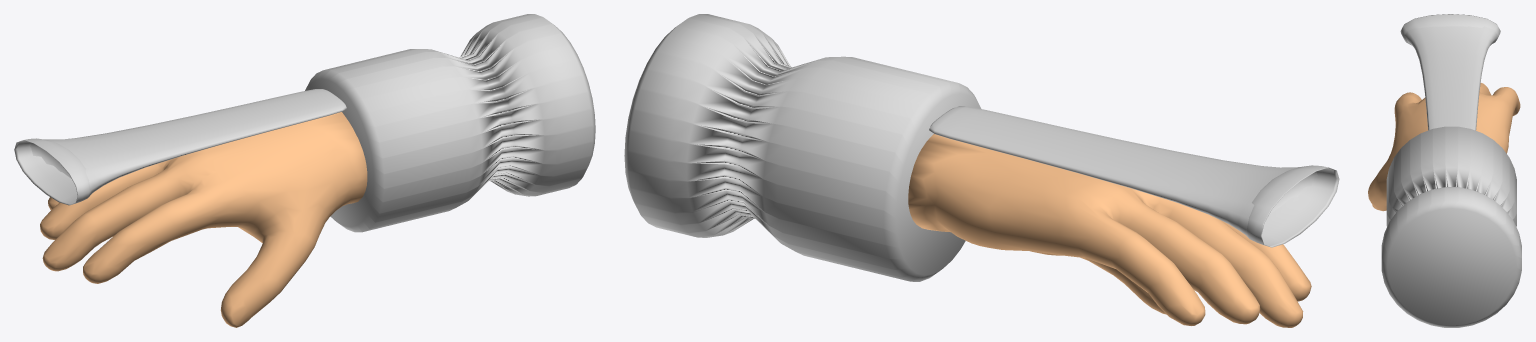
Rendered from Hand.fbx.
The picture shows the model from 3 angles, left to right: view 1: azimuth 30°, elevation 25°; view 2: azimuth 150°, elevation 25°; view 3: azimuth 270°, elevation 25°; orthographic projection. The views are drawn at different scales.
Visible parts, largest first — view 1: Circle, 12683_hand_v1_FINAL, Cube; view 2: Circle, 12683_hand_v1_FINAL, Cube; view 3: Circle, Cube, 12683_hand_v1_FINAL.
Part boxes in pixels (x1,y1,x2,y2): Circle: [305, 14, 595, 232]; 12683_hand_v1_FINAL: [40, 112, 367, 327]; Cube: [14, 89, 346, 205]; Circle: [624, 14, 981, 281]; 12683_hand_v1_FINAL: [908, 134, 1311, 327]; Cube: [929, 106, 1339, 247]; Circle: [1381, 126, 1521, 327]; Cube: [1400, 14, 1500, 130]; 12683_hand_v1_FINAL: [1368, 83, 1520, 211].
Size of the model in its own units: 12144 by 4203 by 4033.
